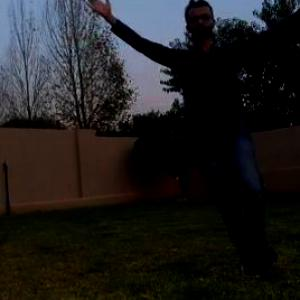takeoff: (93, 0, 299, 271)
